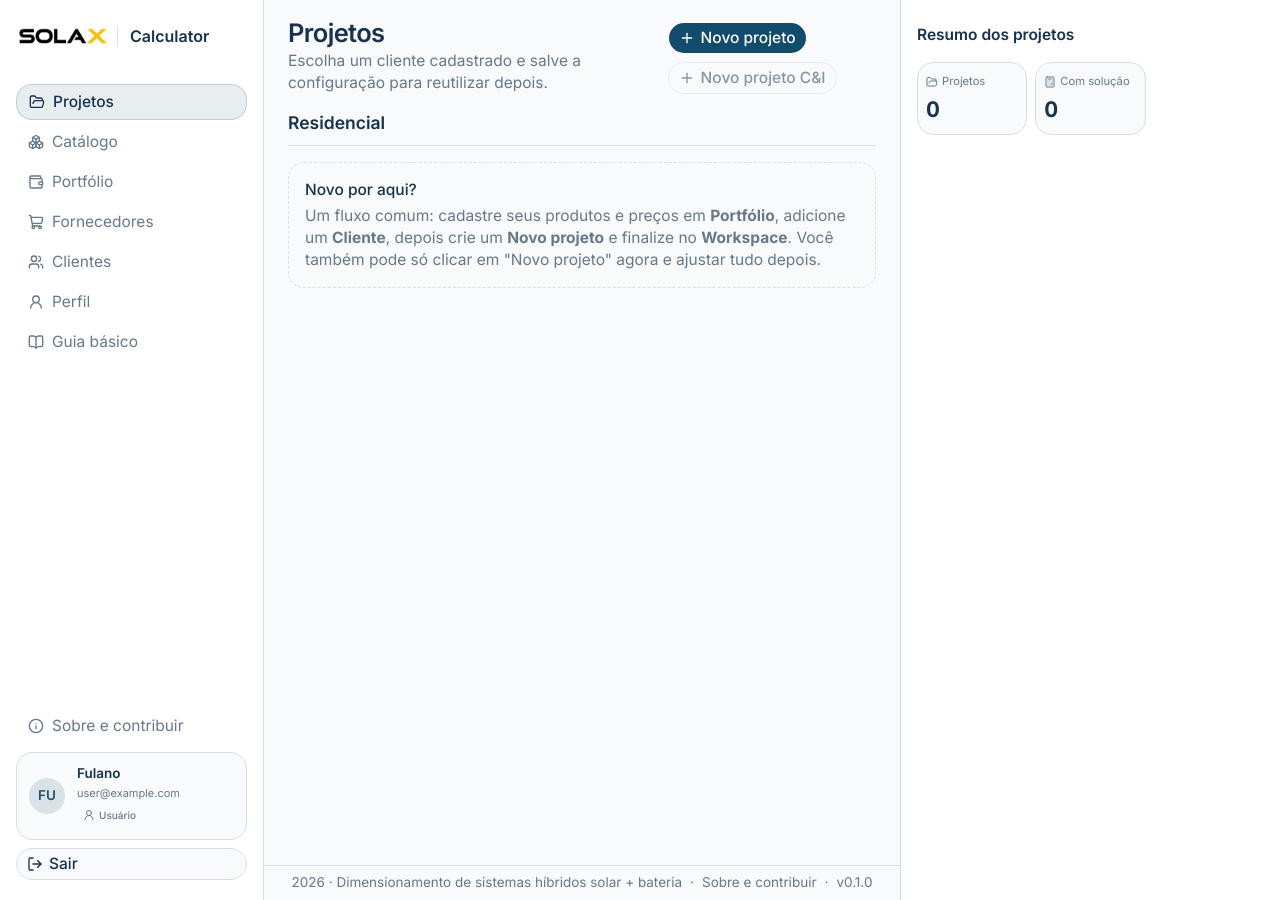
it: SinglePageApp: login-gated navigation › opens Clientes and Perfil in-app when a profile is present
Expected: the heading "Projetos" is shown, x1=288 y1=17 x2=384 y2=48
Click the button "Clientes". click: (132, 262)
box: x1=16 y1=244 x2=247 y2=280
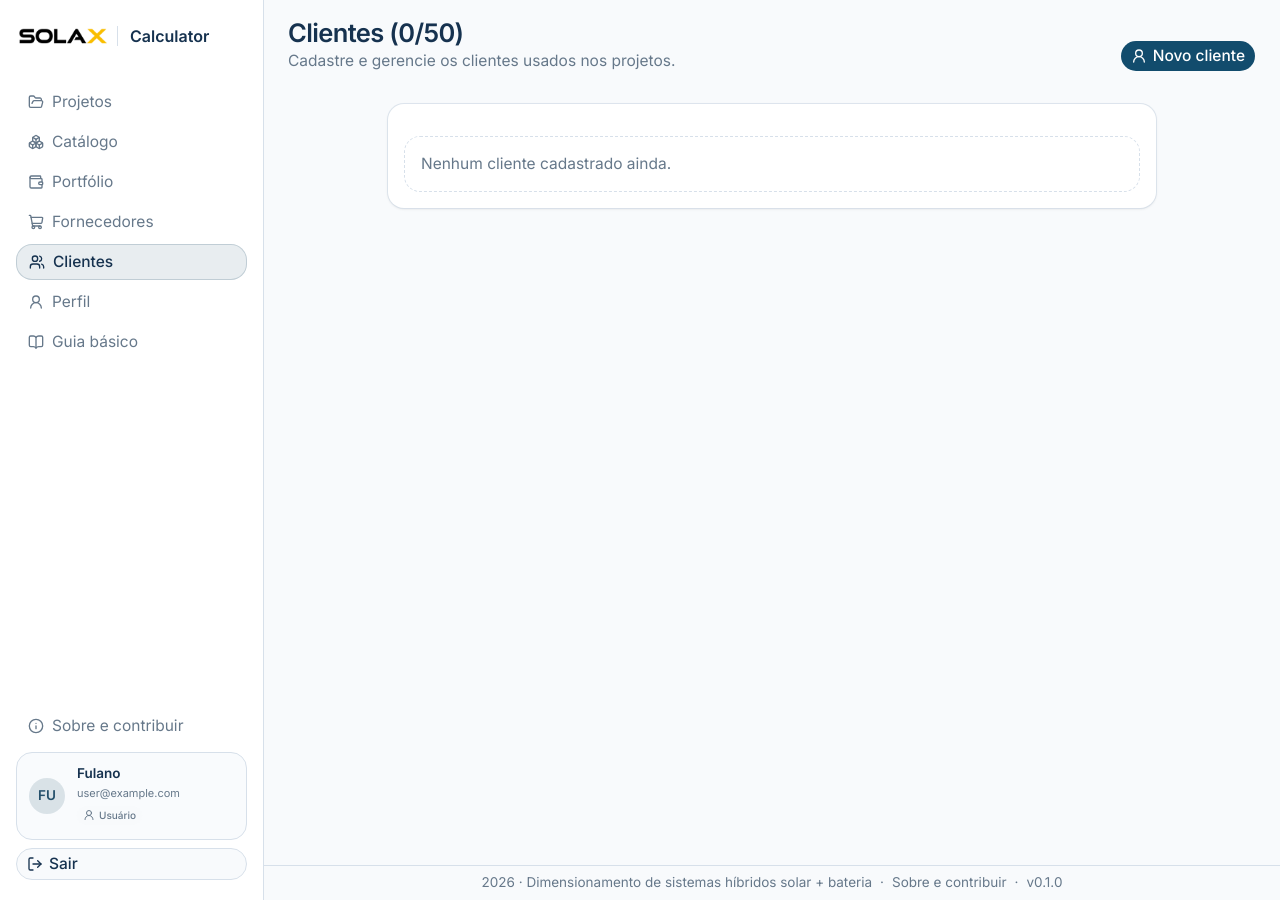
Now the heading "Clientes (0/50)" is shown, box x1=288 y1=17 x2=464 y2=48
Click the button "Fornecedores". click: (132, 222)
box: x1=16 y1=204 x2=247 y2=240
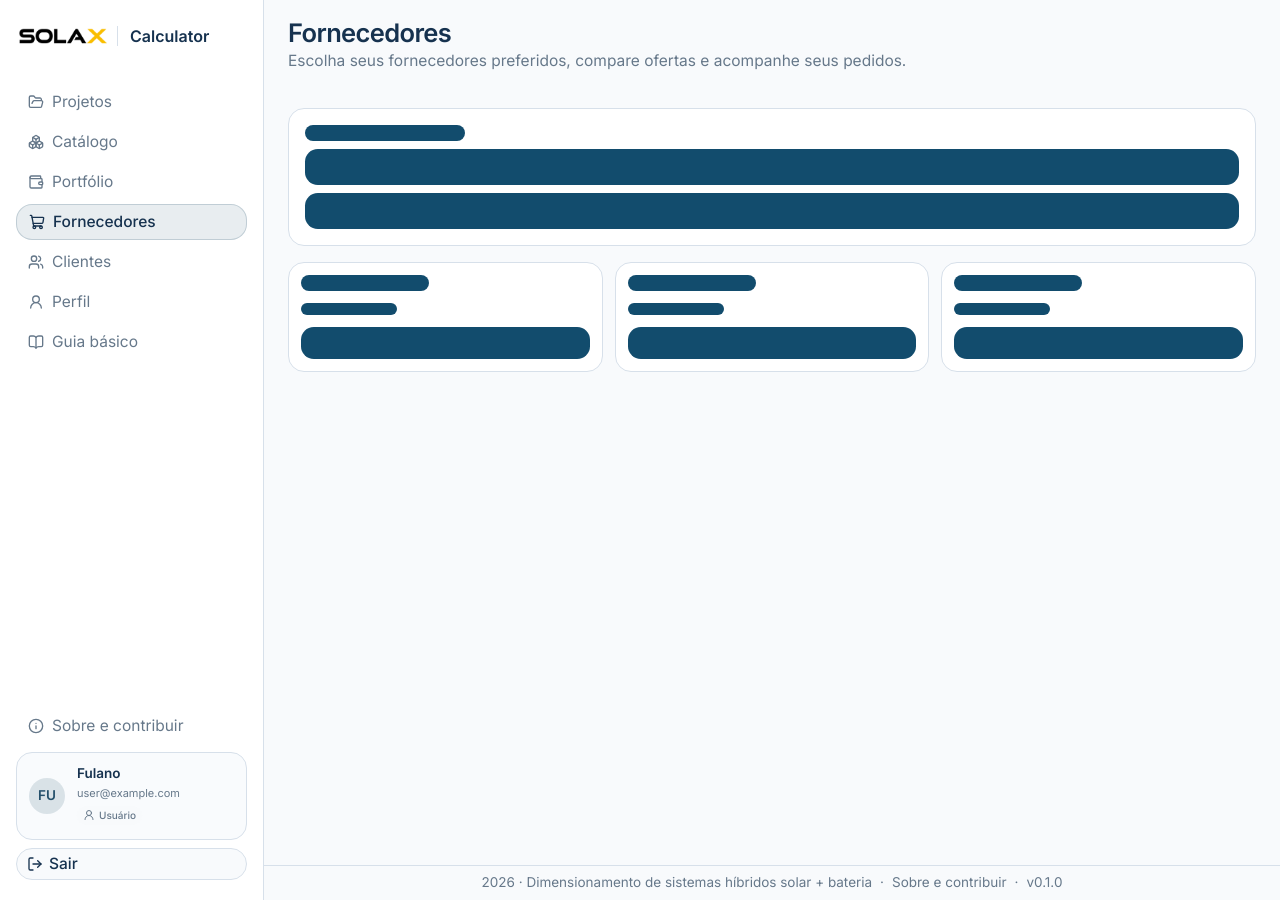
Now the heading "Fornecedores" is shown, box x1=288 y1=17 x2=451 y2=48
Click the button "Perfil". click: (132, 302)
box: x1=16 y1=284 x2=247 y2=320
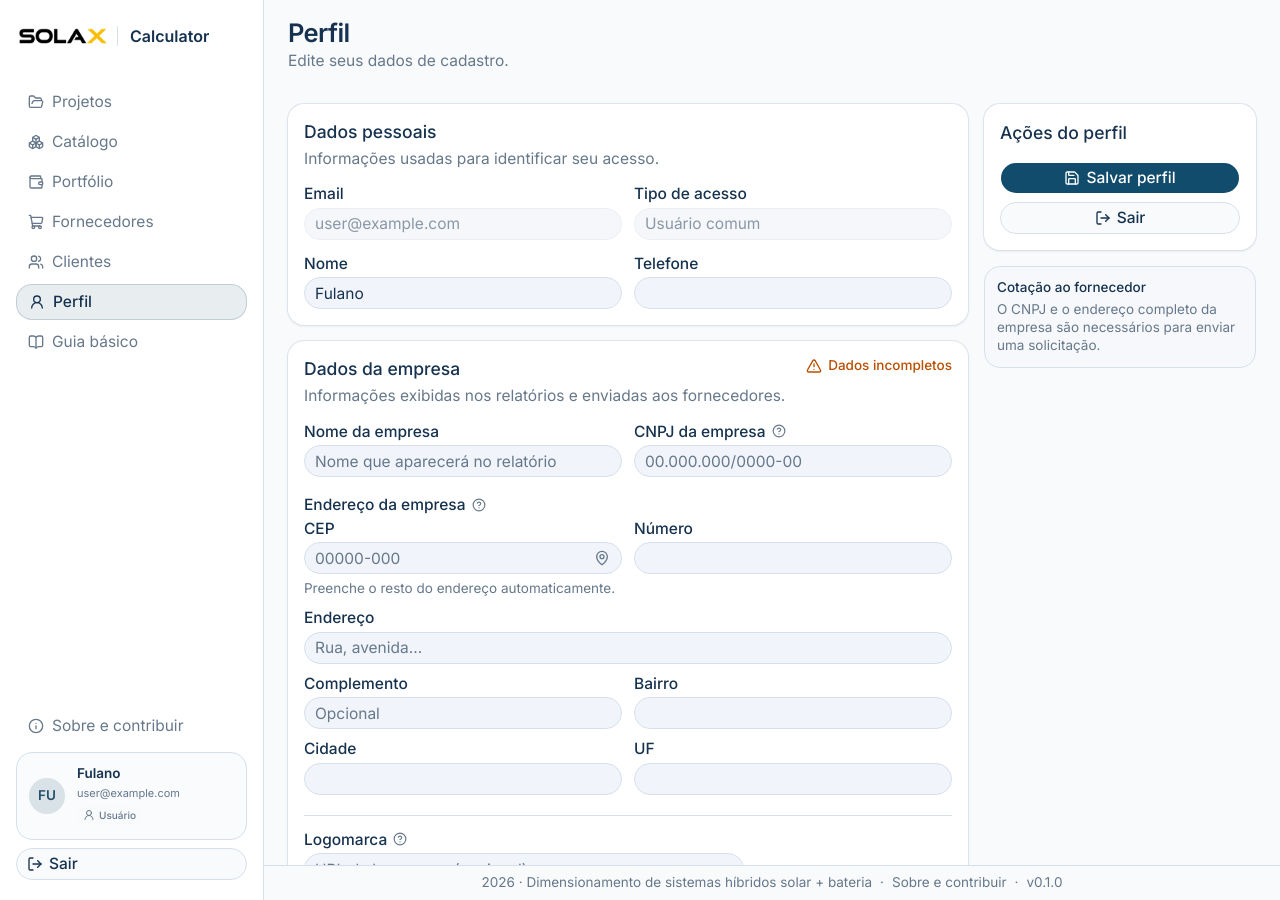
Now the field labelled "Nome" is shown, box x1=304 y1=277 x2=622 y2=309
